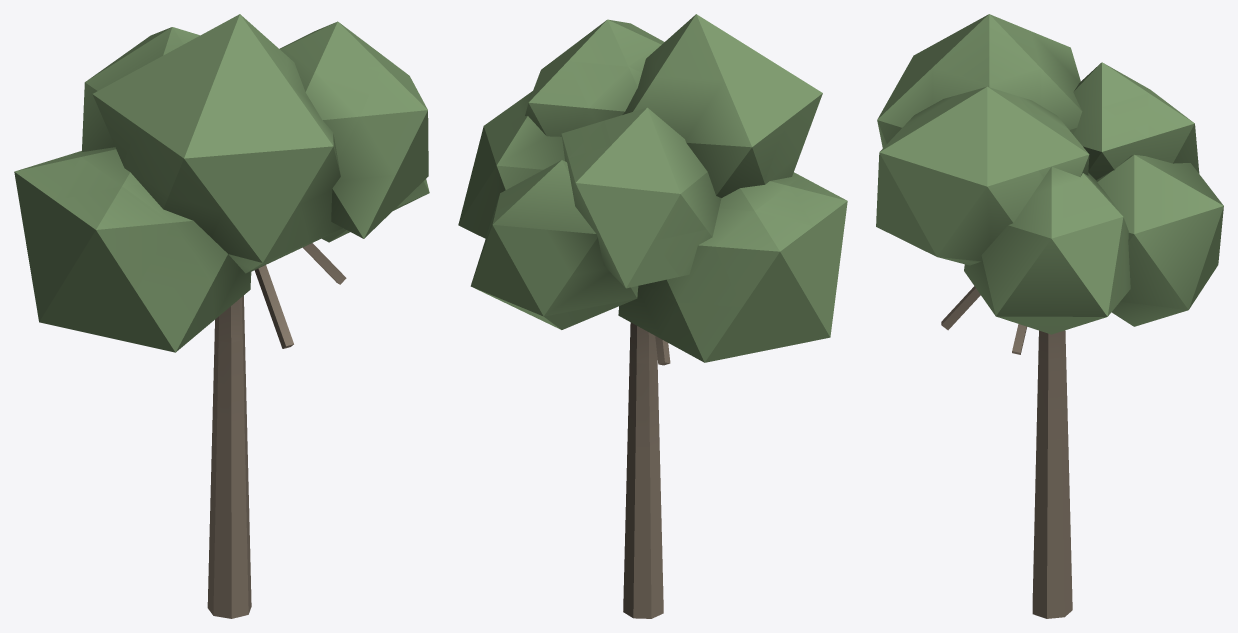
File: arvore_2.glb
The picture shows the model from 3 angles, left to right: view 1: azimuth 30°, elevation 25°; view 2: azimuth 150°, elevation 25°; view 3: azimuth 270°, elevation 25°; orthographic projection. The views are drawn at different scales.
Parts seen in each view (by area): view 1: copa, tronco, galhos; view 2: copa, tronco; view 3: copa, tronco, galhos.
Part boxes in pixels (left/top/right/bottom): copa: left=14, top=14, right=429, bottom=352; tronco: left=207, top=295, right=251, bottom=618; galhos: left=254, top=243, right=346, bottom=348; copa: left=458, top=14, right=847, bottom=362; tronco: left=623, top=322, right=663, bottom=618; copa: left=876, top=14, right=1223, bottom=334; tronco: left=1032, top=330, right=1072, bottom=618; galhos: left=941, top=286, right=1026, bottom=354.
Size of what is drawn, in the model's own units: 4.53 by 7.33 by 3.95.
